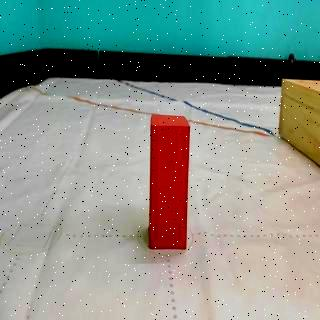redbox: (149, 114, 191, 250)
